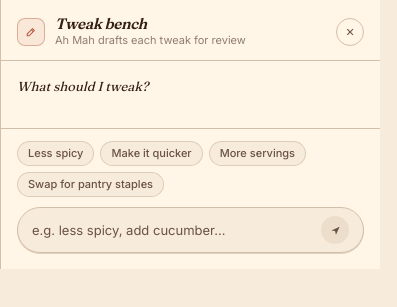
Test case: TweakBench tolerant response parsing › surfaces a plain-text refusal from the model verbatim
Click the button "Less spicy": (56, 154) [17,141,94,166]
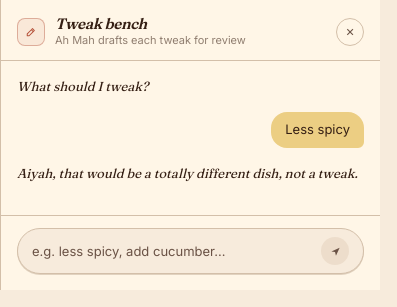
Now the text "Aiyah, that would be a totally different dish, not a tweak." is shown, box [17,164,364,183]
